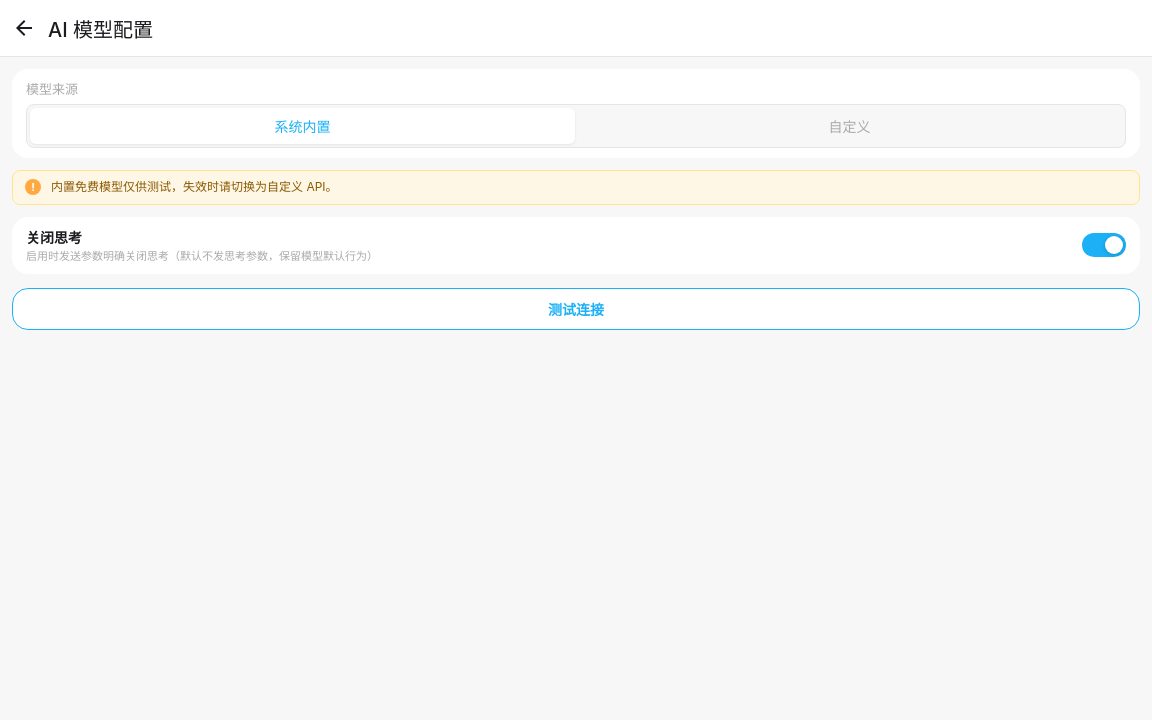
Test case: LlmConfigPage › switching to custom reveals the editable form and hides the info card
Click the radio button labelled "自定义" at (850, 126), box [828,118,870,135]
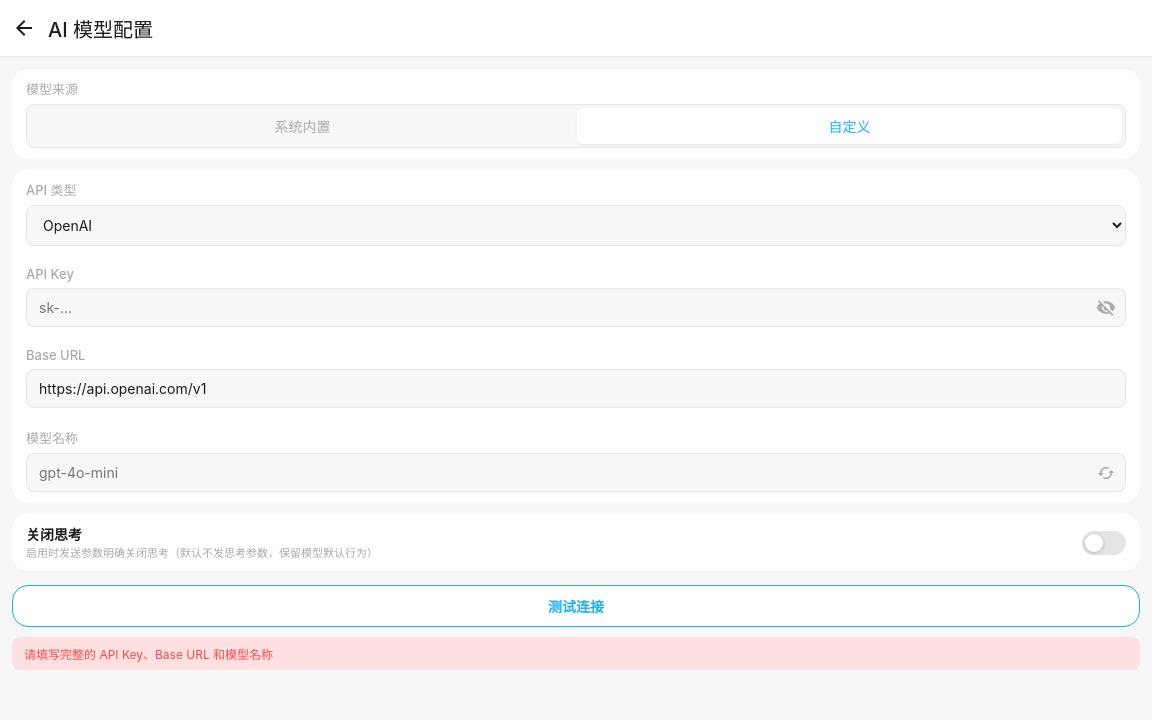
Expected: the password field with placeholder "sk-..." is shown, [26,288,1086,327]
